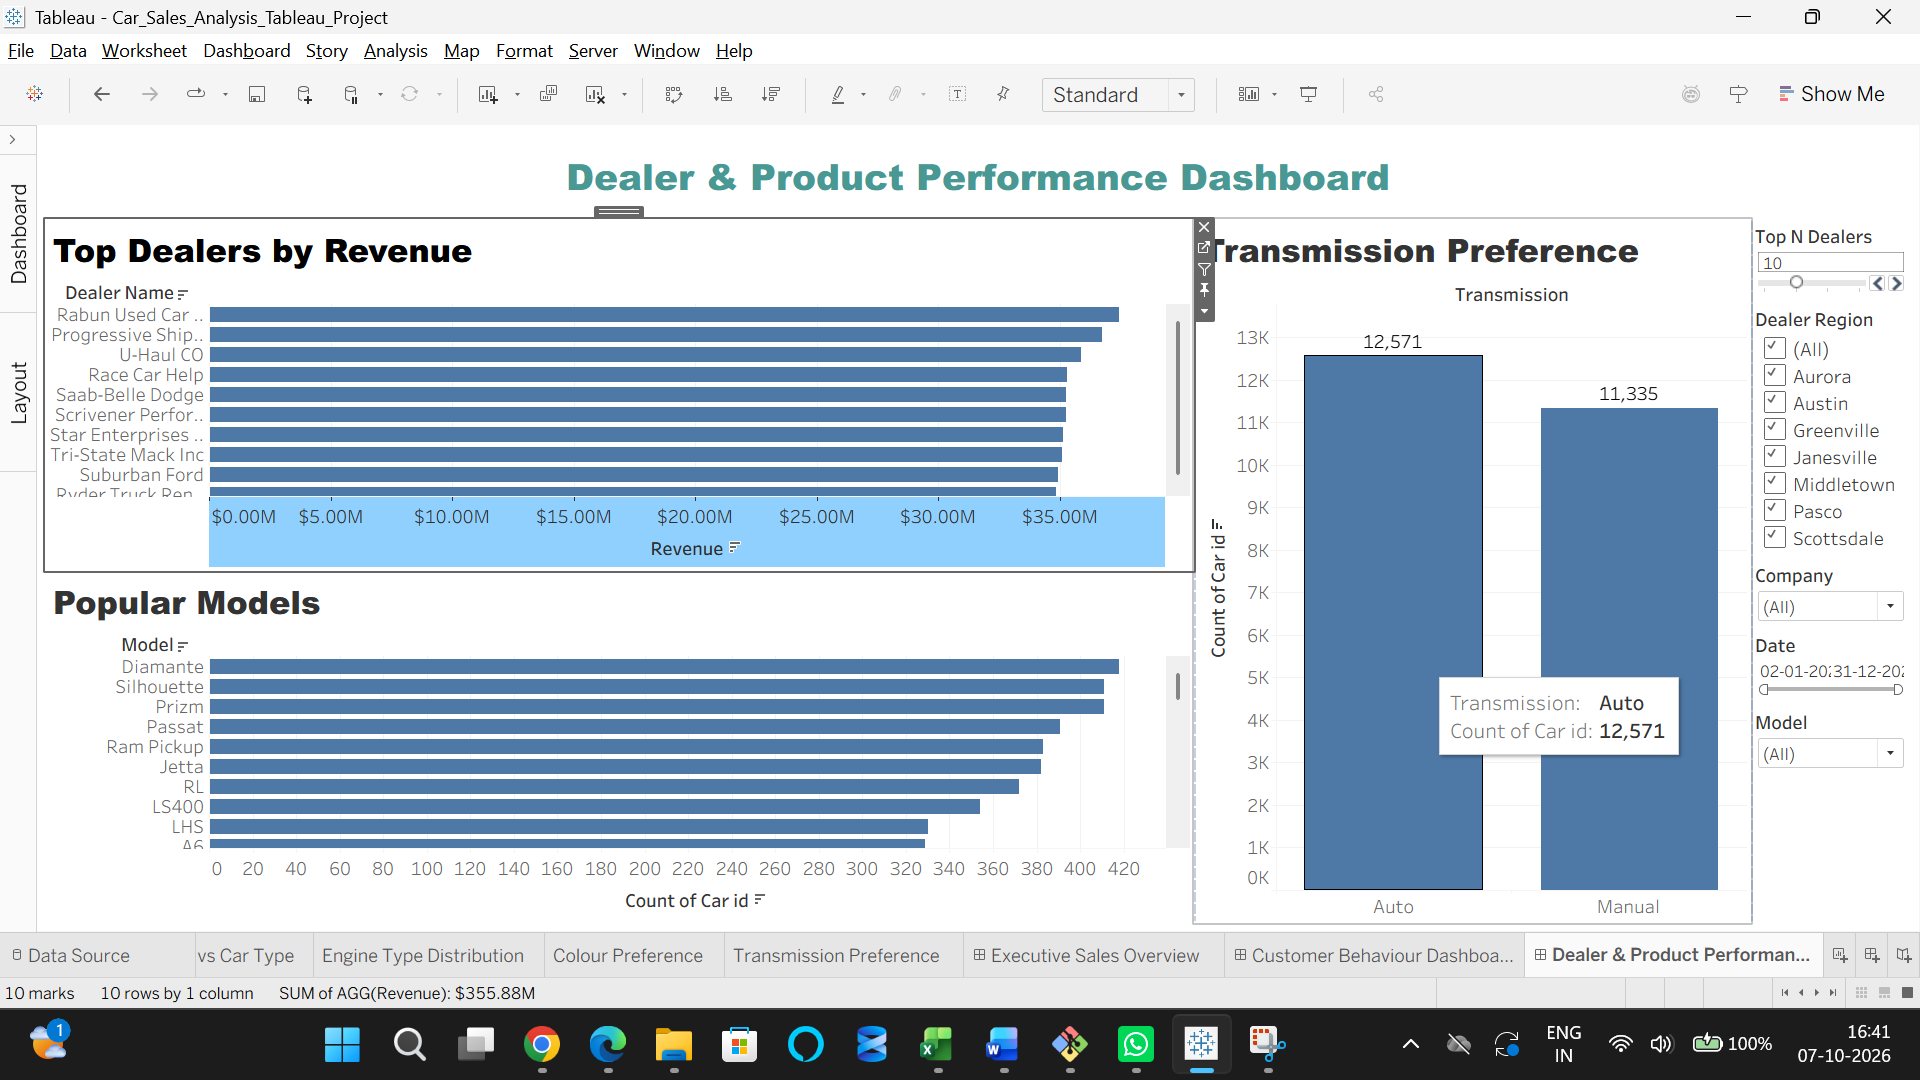

The page's visual inventory and layout, read from the dashboard file:
{"tool":"tableau","page":{"name":"Dealer & Product Performance Dashboard","canvas":[1000,1000],"units":"permille","ordinal":1},"visuals":[{"type":"text","box":[5,9.9,990,106.7]},{"type":"worksheet","title":"Top Dealers by Revenue","mark":"Automatic","rows":["Dealer_Name"],"cols":["Calculation_0152607579099137"],"box":[5,116.6,716.3,436.7]},{"type":"worksheet","title":"Transmission Preference ","mark":"Bar","rows":["Car_id"],"cols":["Transmission"],"box":[721.3,116.6,173.9,873.4]},{"type":"parameter","param":"[Parameters].[Parameter 0152608601616389]","box":[895.2,116.6,99.8,103]},{"type":"filter","title":"Top Dealers by Revenue","param":"[federated.0mckpiq1fay6no11compp1ardqm1].[none:Dealer_Region:nk]","box":[895.2,219.6,99.8,317.6]},{"type":"filter","title":"Top Dealers by Revenue","param":"[federated.0mckpiq1fay6no11compp1ardqm1].[none:Company:nk]","box":[895.2,537.2,99.8,86.9]},{"type":"worksheet","title":"Popular Models","mark":"Automatic","rows":["Model"],"cols":["Car_id"],"box":[5,553.4,716.3,436.7]},{"type":"filter","title":"Top Dealers by Revenue","param":"[federated.0mckpiq1fay6no11compp1ardqm1].[none:Date:qk]","box":[895.2,624.1,99.8,95.5]},{"type":"filter","title":"Top Dealers by Revenue","param":"[federated.0mckpiq1fay6no11compp1ardqm1].[none:Model:nk]","box":[895.2,719.6,99.8,86.9]}]}

Visuals, with their boxes on the dashboard's canvas, which has no fixed pixel size, in thousandths of its width and height (x1, y1, x2, y2). These are canvas units, not pixel positions in the 1920x1080 screenshot, which may show the page scaled, cropped or inside an application window:
text: crop(5, 10, 995, 117)
"Top Dealers by Revenue" worksheet: crop(5, 117, 721, 553)
"Transmission Preference " worksheet (Bar marks): crop(721, 117, 895, 990)
parameter: crop(895, 117, 995, 220)
"Top Dealers by Revenue" filter: crop(895, 220, 995, 537)
"Top Dealers by Revenue" filter: crop(895, 537, 995, 624)
"Popular Models" worksheet: crop(5, 553, 721, 990)
"Top Dealers by Revenue" filter: crop(895, 624, 995, 720)
"Top Dealers by Revenue" filter: crop(895, 720, 995, 806)
